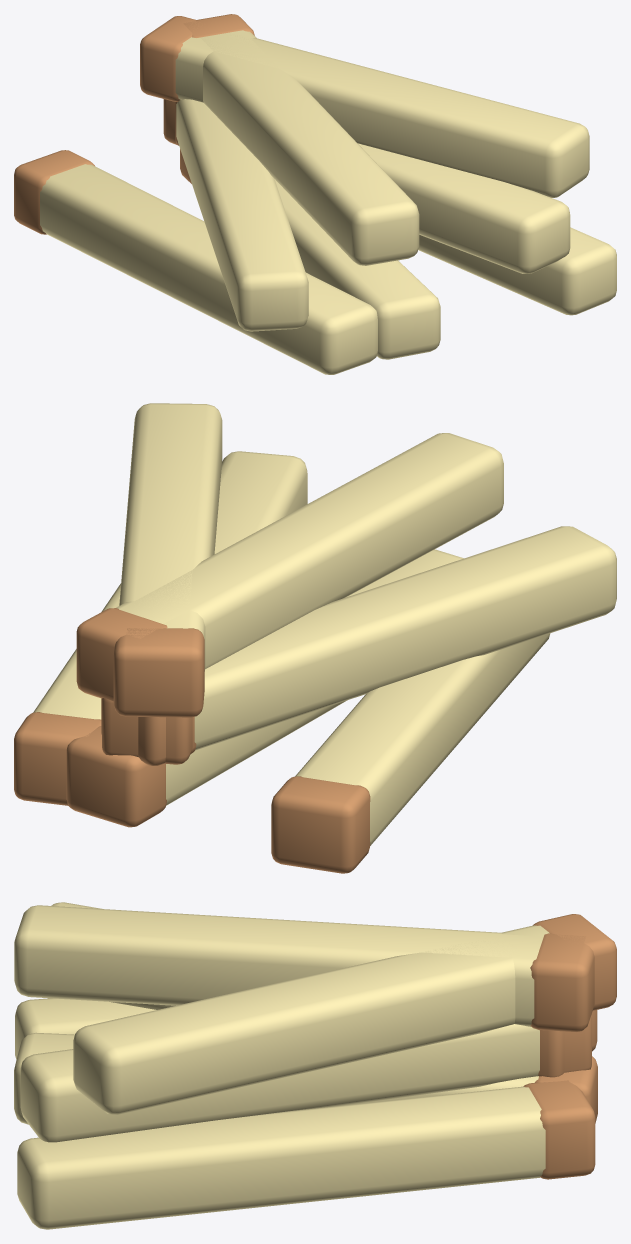
File: food_ingredient_potato_chopped.gltf
3 views of the same model, one above another, from view 1: azimuth 30°, elevation 25°; view 2: azimuth 150°, elevation 25°; view 3: azimuth 270°, elevation 25° (orthographic). The views are drawn at different scales.
Parts seen in each view (by area): view 1: PotatoFryStick_0; view 2: PotatoFryStick_0; view 3: PotatoFryStick_0.
Boxes of the visible parts, <box> form: PotatoFryStick_0: <box>14,14,616,374</box>; PotatoFryStick_0: <box>14,403,616,873</box>; PotatoFryStick_0: <box>14,902,616,1229</box>.
Size of the model in its own units: 0.2644 by 0.105 by 0.3124.
